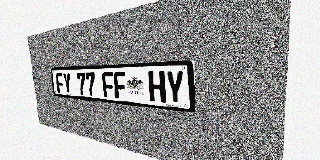7: (85, 72, 96, 96), (76, 73, 87, 95)
F: (113, 72, 127, 99), (102, 72, 115, 98), (55, 73, 65, 93)
H: (148, 71, 166, 103)
Y: (165, 71, 185, 105), (62, 73, 72, 94)
